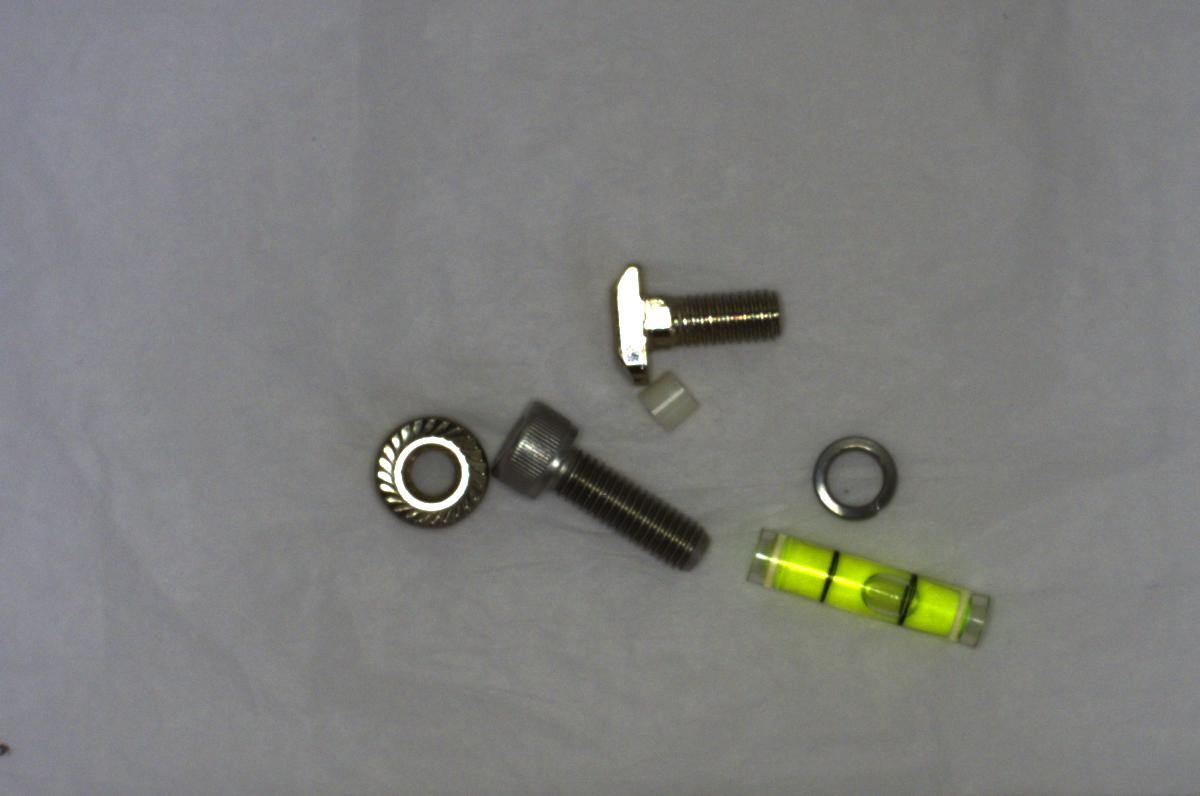Flange nut: (369, 409, 493, 537)
Hexagon screw: (493, 401, 710, 573)
Horizontal bubble: (733, 521, 997, 659)
Plastic cushion pillar: (629, 372, 701, 430)
Spring washer: (803, 428, 903, 524)
T-shaped screw: (592, 264, 780, 381)
